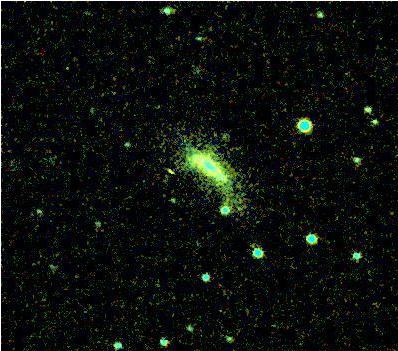star: (158, 158, 188, 188)
